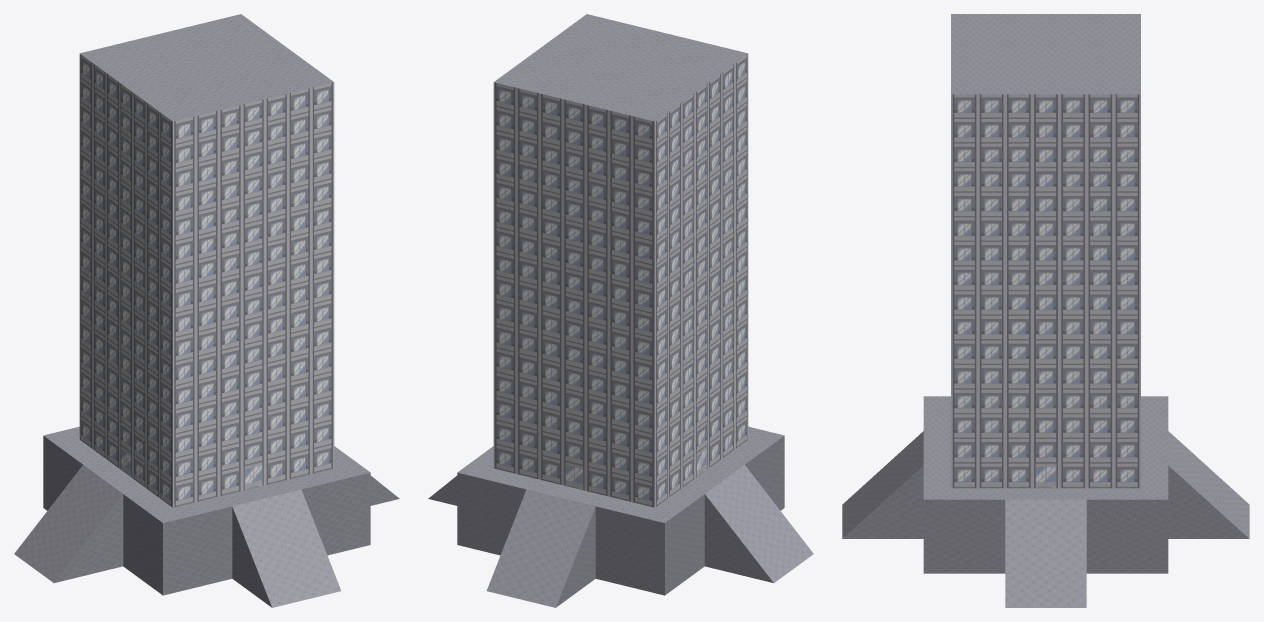
Rendered from Building_Apartment.fbx.
3 views of the same model, side by side, from view 1: azimuth 30°, elevation 25°; view 2: azimuth 150°, elevation 25°; view 3: azimuth 270°, elevation 25° (orthographic).
Visible parts, largest first — view 1: Building_Apartment001, Building_Base001; view 2: Building_Apartment001, Building_Base001; view 3: Building_Apartment001, Building_Base001.
Boxes of the visible parts, <box> form: Building_Apartment001: <box>79,14,334,507</box>; Building_Base001: <box>14,426,399,607</box>; Building_Apartment001: <box>493,14,748,507</box>; Building_Base001: <box>428,426,813,607</box>; Building_Apartment001: <box>951,14,1140,488</box>; Building_Base001: <box>842,396,1249,607</box>.
Bounding box in the file's own units: 3000 × 3800 × 3000.
